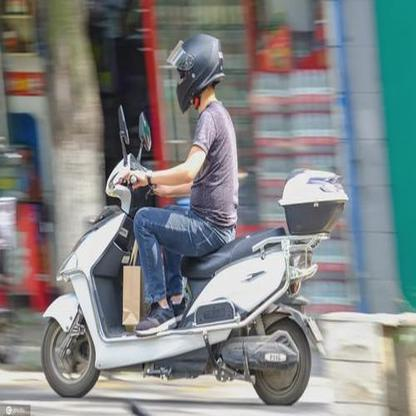target: (39, 32, 353, 404)
